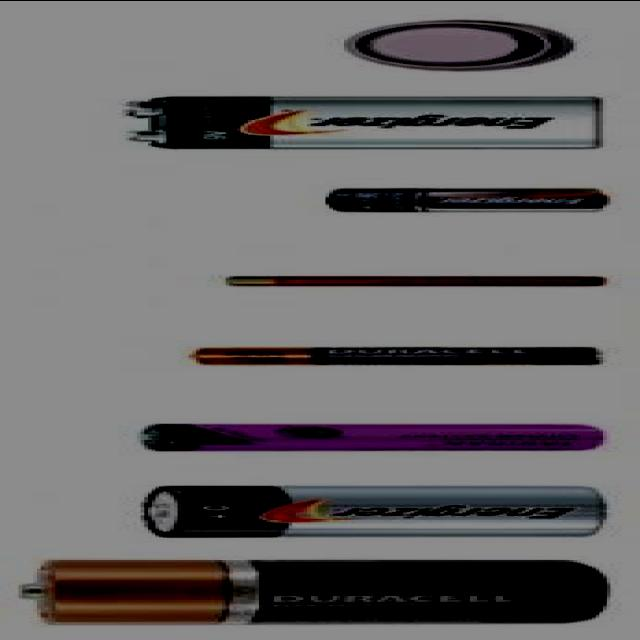AA: (127, 420, 614, 452)
COIN: (337, 17, 584, 71)
